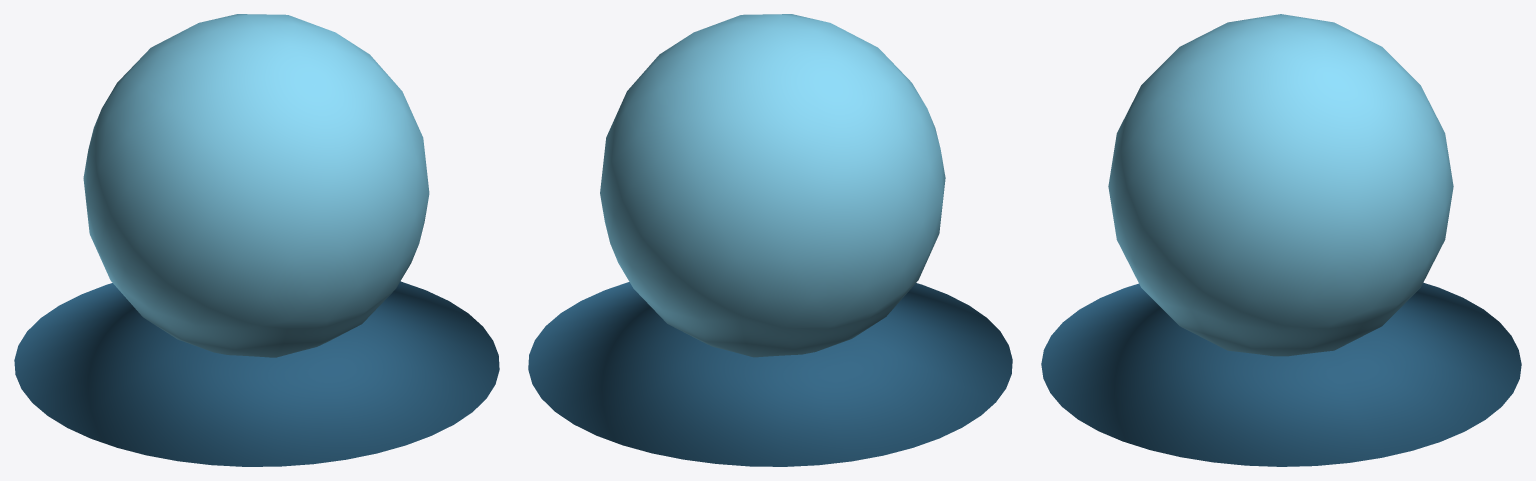
Rendered from glass-transformation-glow.obj.
3 views of the same model, side by side, from view 1: azimuth 30°, elevation 25°; view 2: azimuth 150°, elevation 25°; view 3: azimuth 270°, elevation 25° (orthographic).
Parts seen in each view (by area): view 1: glass-transformation-glow; view 2: glass-transformation-glow; view 3: glass-transformation-glow.
Part boxes in pixels (x1,y1,x2,y2): glass-transformation-glow: (14,14,499,466); glass-transformation-glow: (528,14,1012,466); glass-transformation-glow: (1041,14,1521,466).
Size of the model in its own units: 0.6144 by 0.47 by 0.6123.
